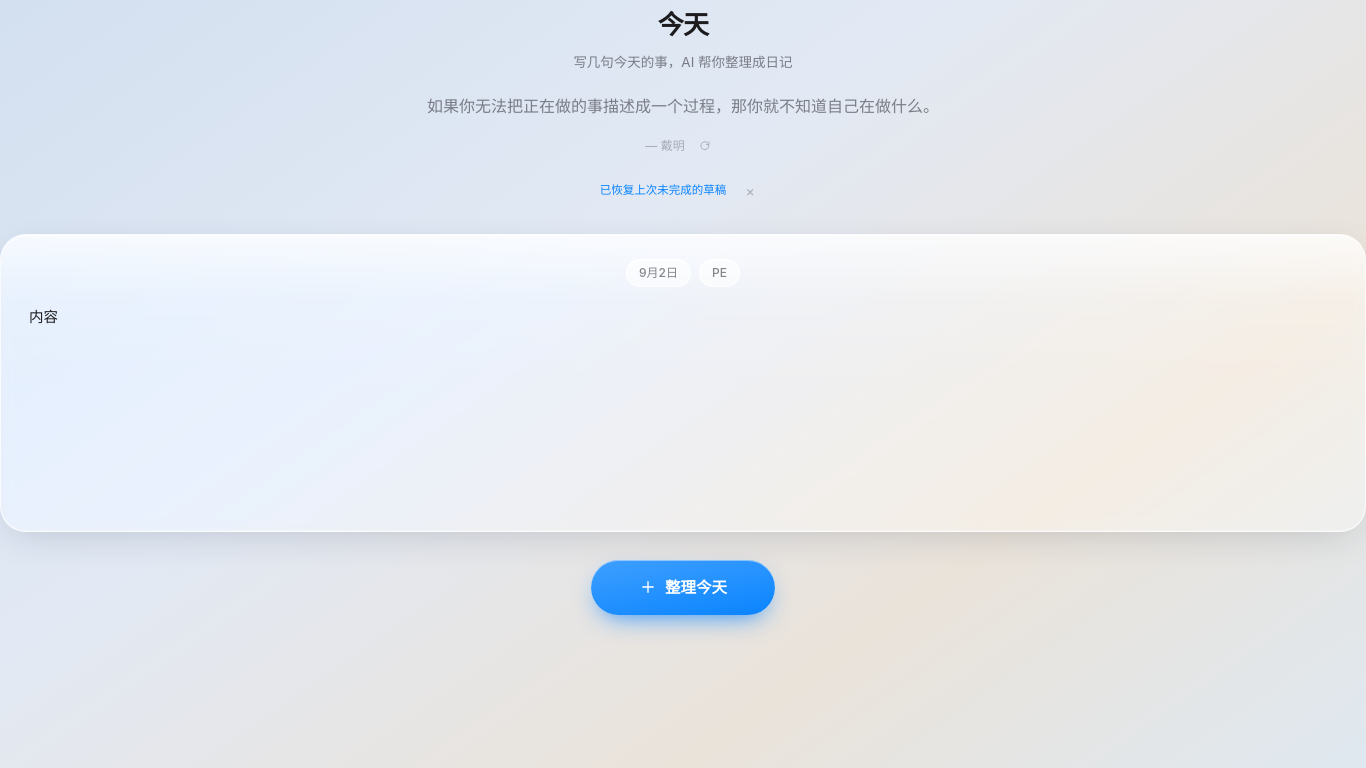
Scenario: DiaryCreatePage 草稿行为 › 恢复提示可手动关闭
This screenshot has width=1366, height=768.
Expected: the text "已恢复上次未完成的草稿" is shown, [600,182,726,199]
Click the button named "关闭": (750, 190) [734,174,766,206]
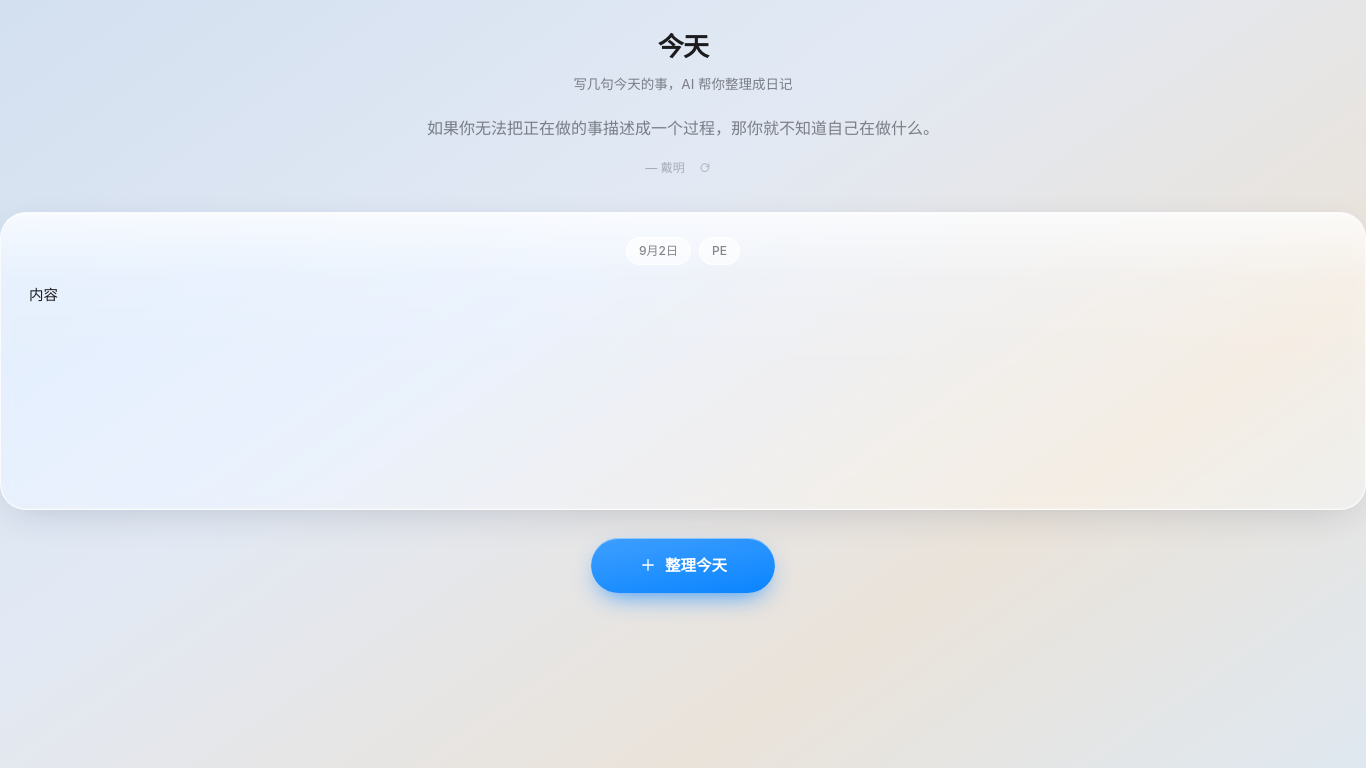
Now the text "已恢复上次未完成的草稿" is gone
